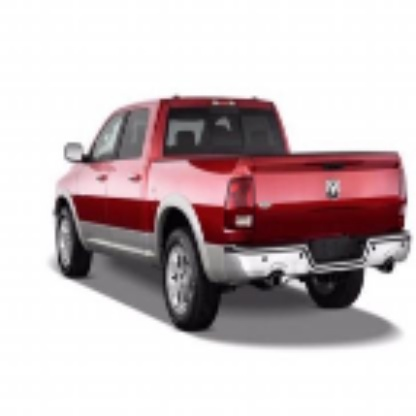Vehicle: (53, 93, 414, 336)
